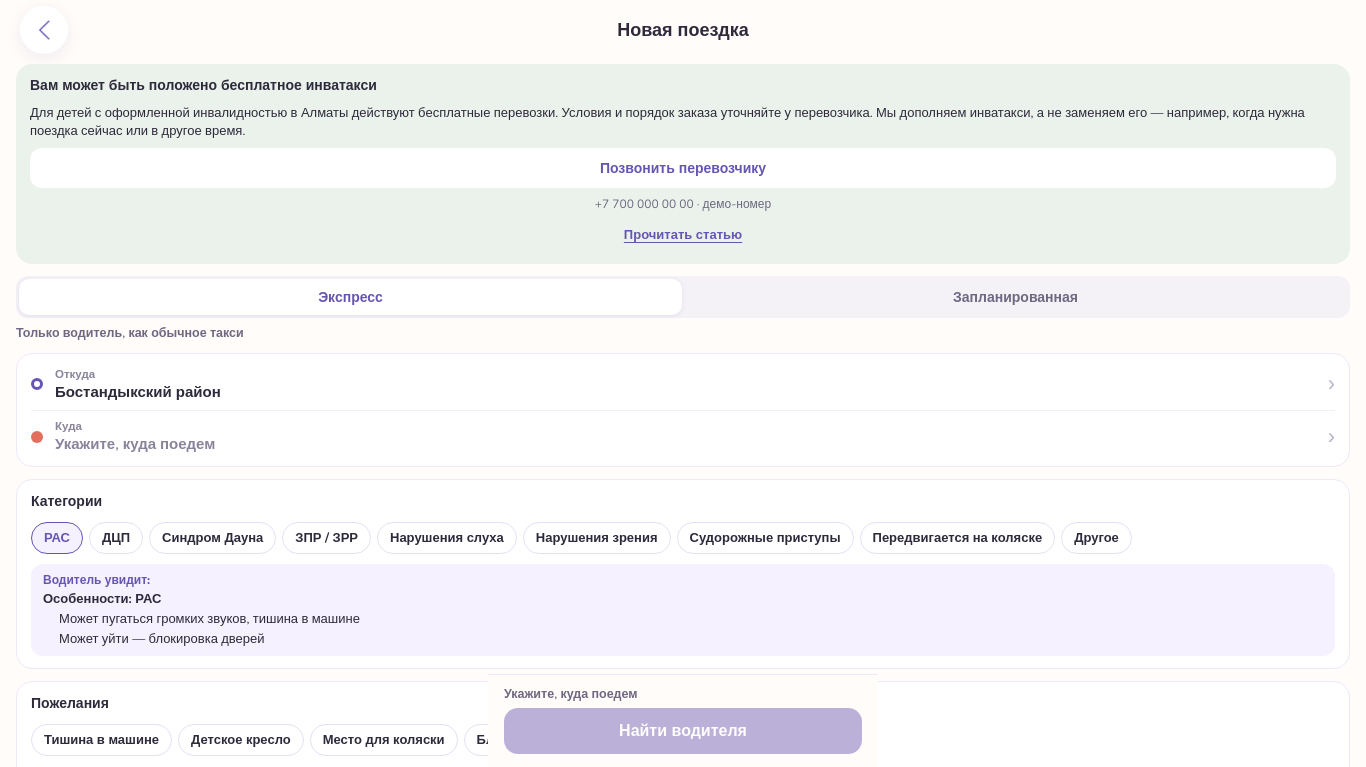
Test: new ride and invataxi › scheduled controls appear only in scheduled mode and use a 30 minute minimum
Check: the field labelled "Дата" is not shown
Check: the switch labelled "Нужен сопровождающий" is not shown
Click the button "Запланированная": (1016, 297) [684,279,1347,315]
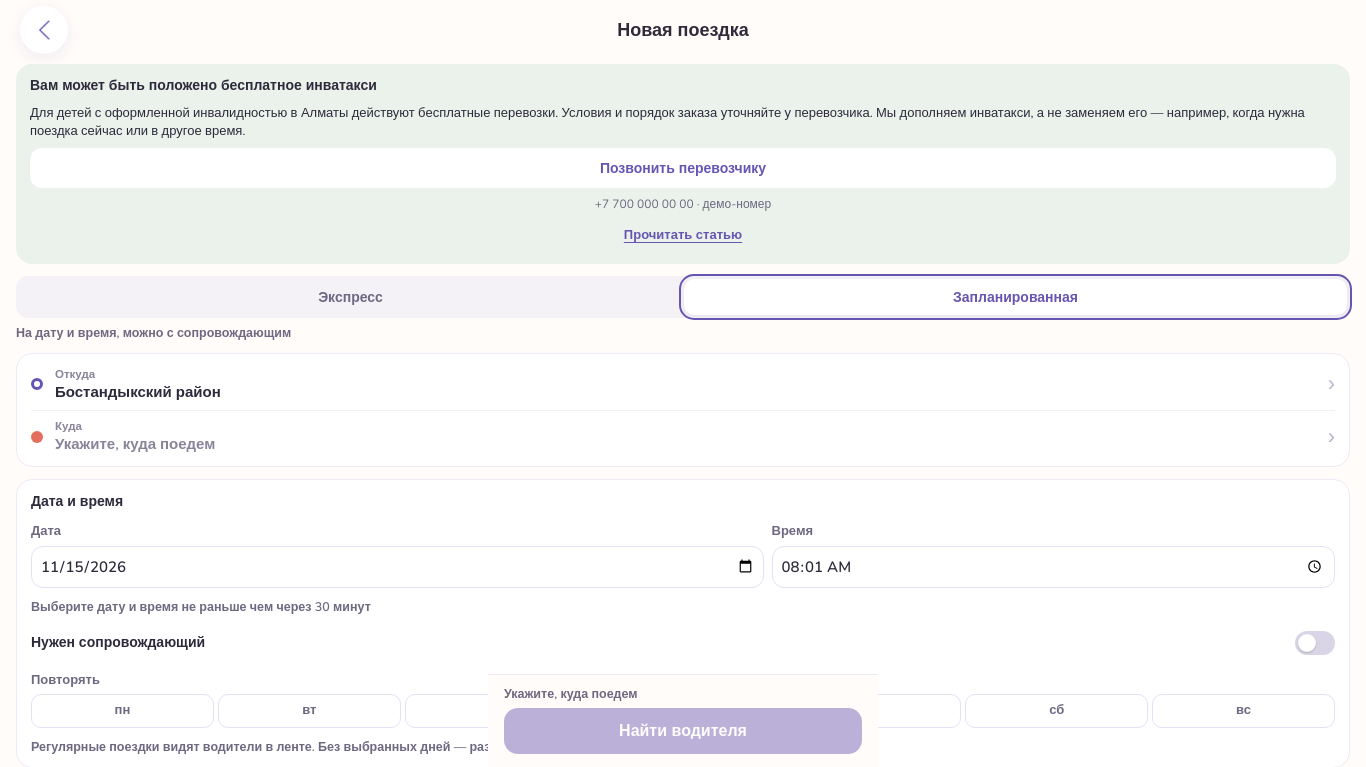
Check: the switch labelled "Нужен сопровождающий" is not checked, box [31,624,1335,660]
Click the button "Экспресс": (350, 297) [19,279,682,315]
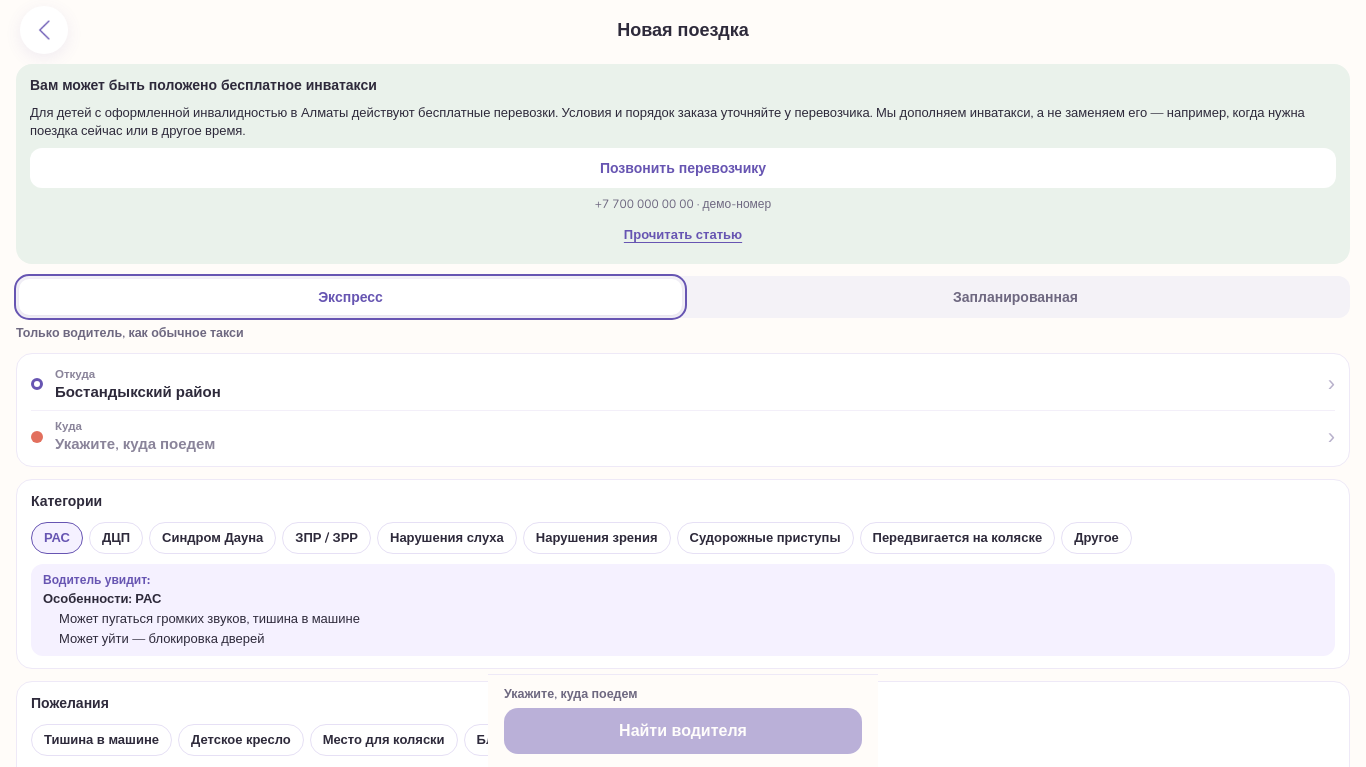
Check: the heading labelled "Дата" is gone
Check: the switch labelled "Нужен сопровождающий" is gone
Check: the text "Повторять" is gone
